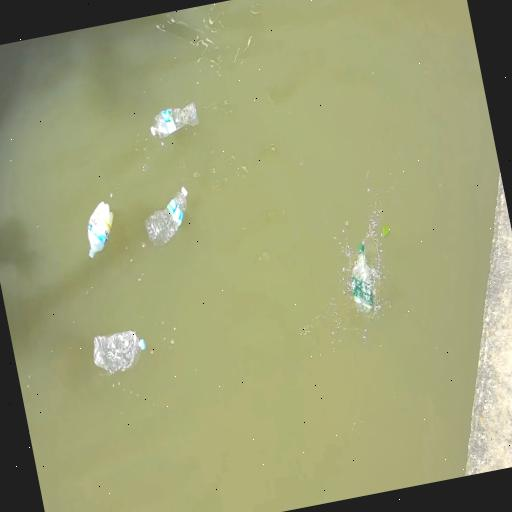plastic: (146, 187, 188, 245), (94, 331, 145, 375), (151, 102, 199, 137), (351, 245, 373, 309), (88, 202, 113, 258)
